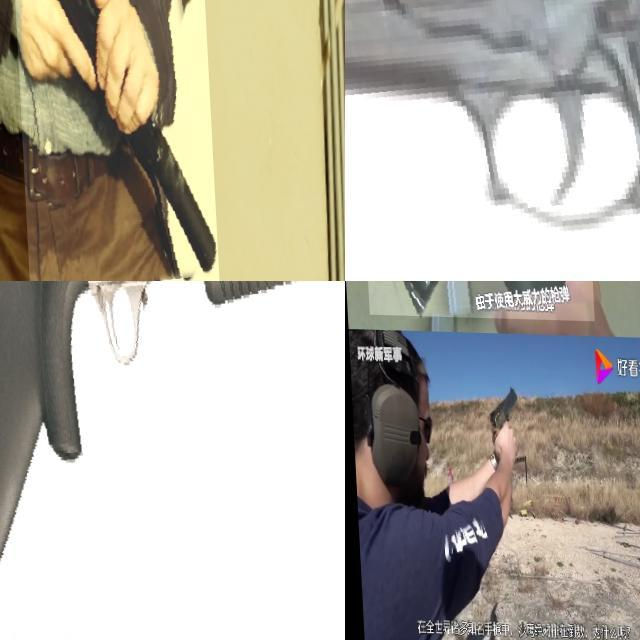gun-knife-thesis - v11 Yolov5 augmented: (0, 281, 345, 639), (345, 0, 640, 281), (8, 0, 213, 281), (354, 281, 591, 428), (485, 387, 517, 459)
